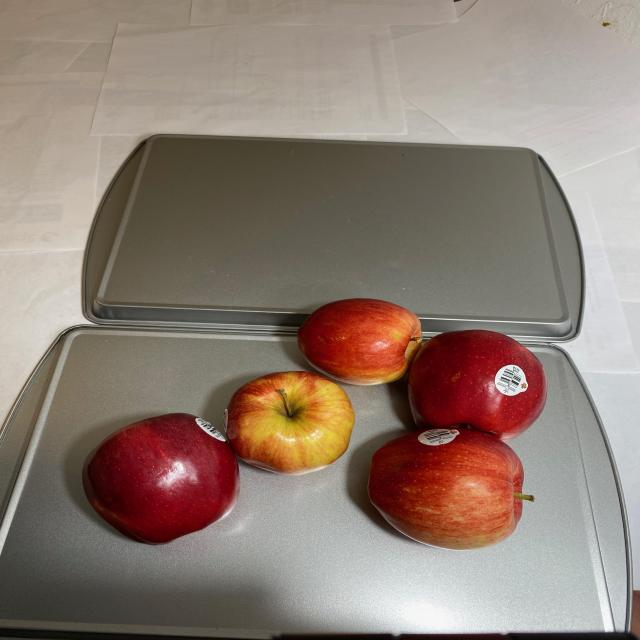apple: (78, 297, 546, 563)
